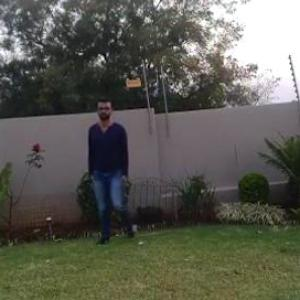follow: (97, 95, 148, 252)
